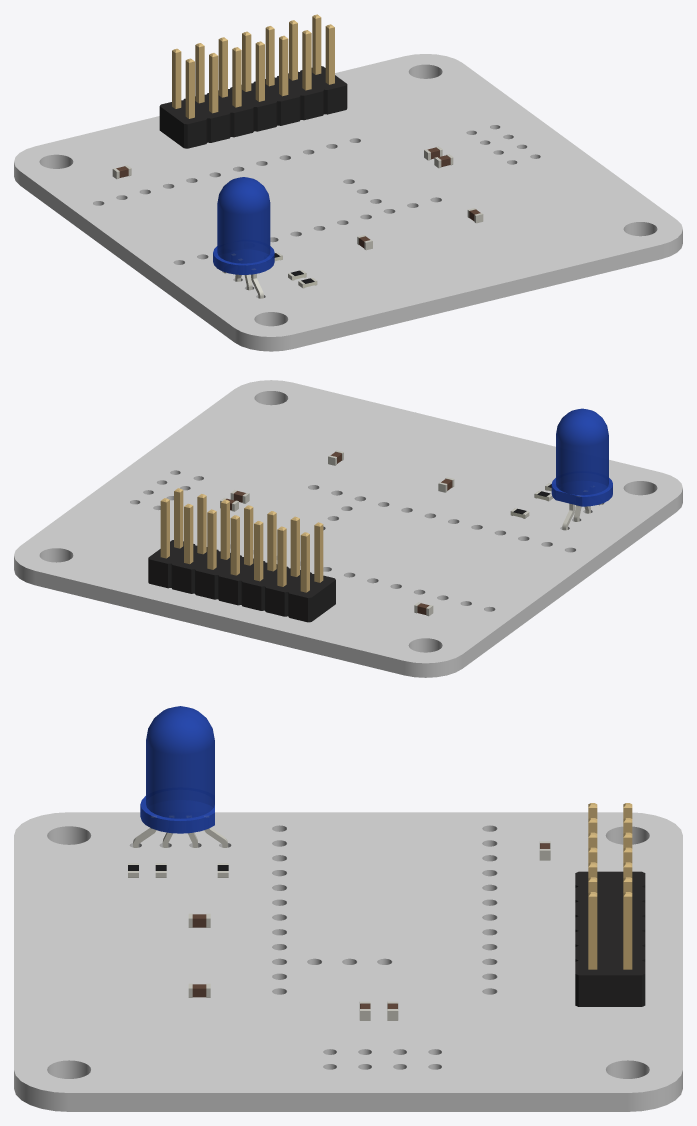
Rendered from hmd.glb.
3 renders of one model, top to bottom at view 1: azimuth 30°, elevation 25°; view 2: azimuth 150°, elevation 25°; view 3: azimuth 270°, elevation 25°, orthographic. The views are drawn at different scales.
Parts seen in each view (by area): view 1: =>[0:1:1:10], =>[0:1:1:7], =>[0:1:1:9]; view 2: =>[0:1:1:10], =>[0:1:1:7], =>[0:1:1:9]; view 3: =>[0:1:1:10], =>[0:1:1:7], =>[0:1:1:9].
Boxes of the visible parts, x1,y1,x2,y2 form: =>[0:1:1:10]: [14, 54, 682, 351]; =>[0:1:1:7]: [159, 14, 347, 148]; =>[0:1:1:9]: [213, 177, 274, 298]; =>[0:1:1:10]: [14, 380, 682, 677]; =>[0:1:1:7]: [148, 488, 335, 622]; =>[0:1:1:9]: [551, 408, 612, 530]; =>[0:1:1:10]: [14, 812, 682, 1111]; =>[0:1:1:7]: [575, 803, 645, 1006]; =>[0:1:1:9]: [133, 706, 227, 847].
Size of the model in its own units: 0.0482 by 0.0138 by 0.0485.
